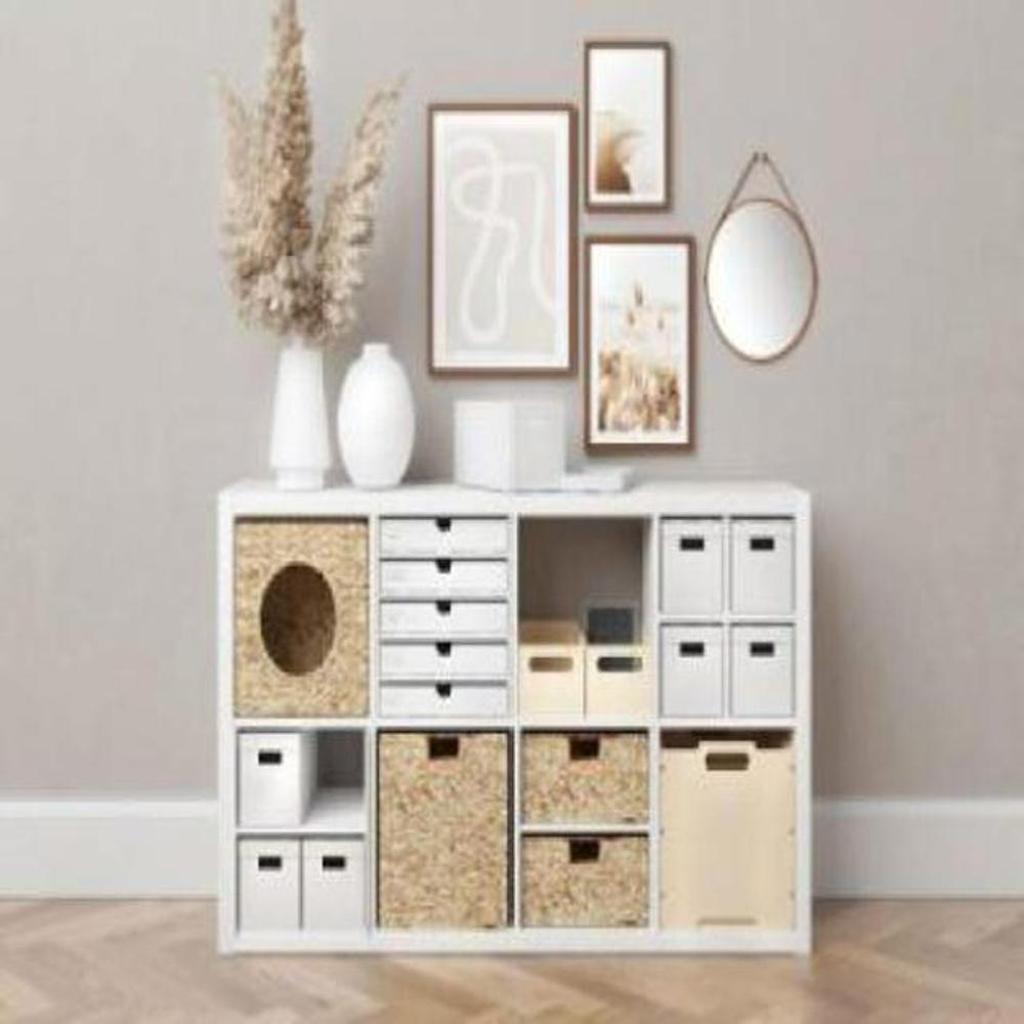lamp: (215, 471, 814, 961)
